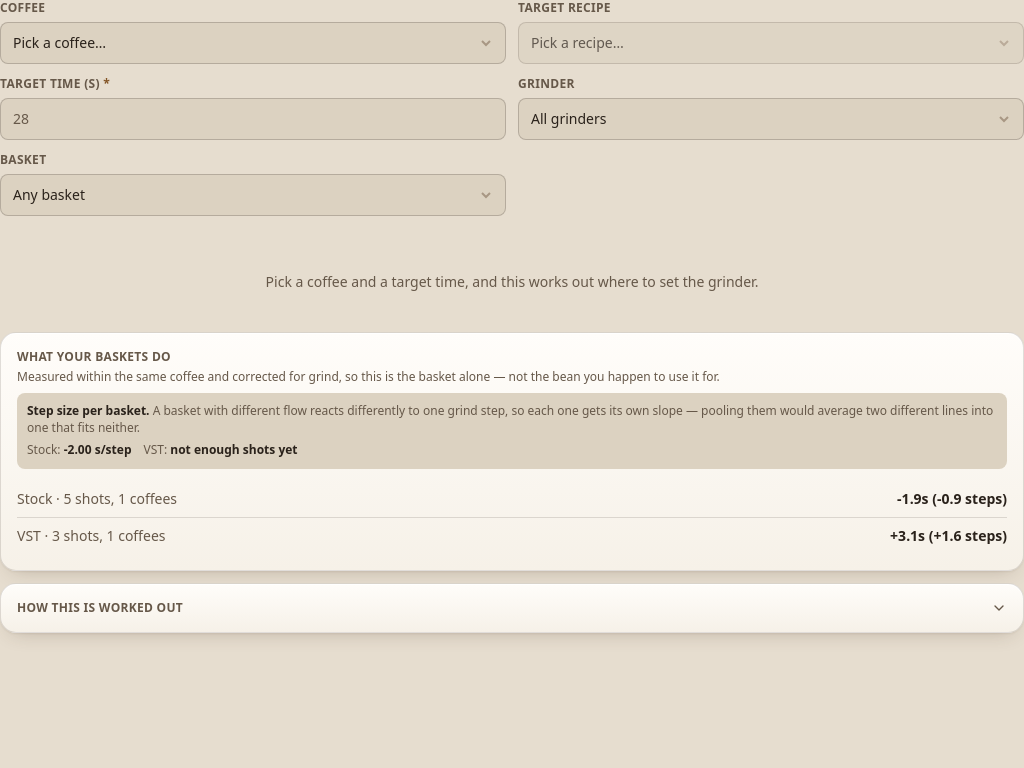
Test: a typed target time overrides the one from the recipe
Select "Bean / R" in the dropdown labelled "Coffee". click: coordinates (253, 43)
box: [0,22,506,64]
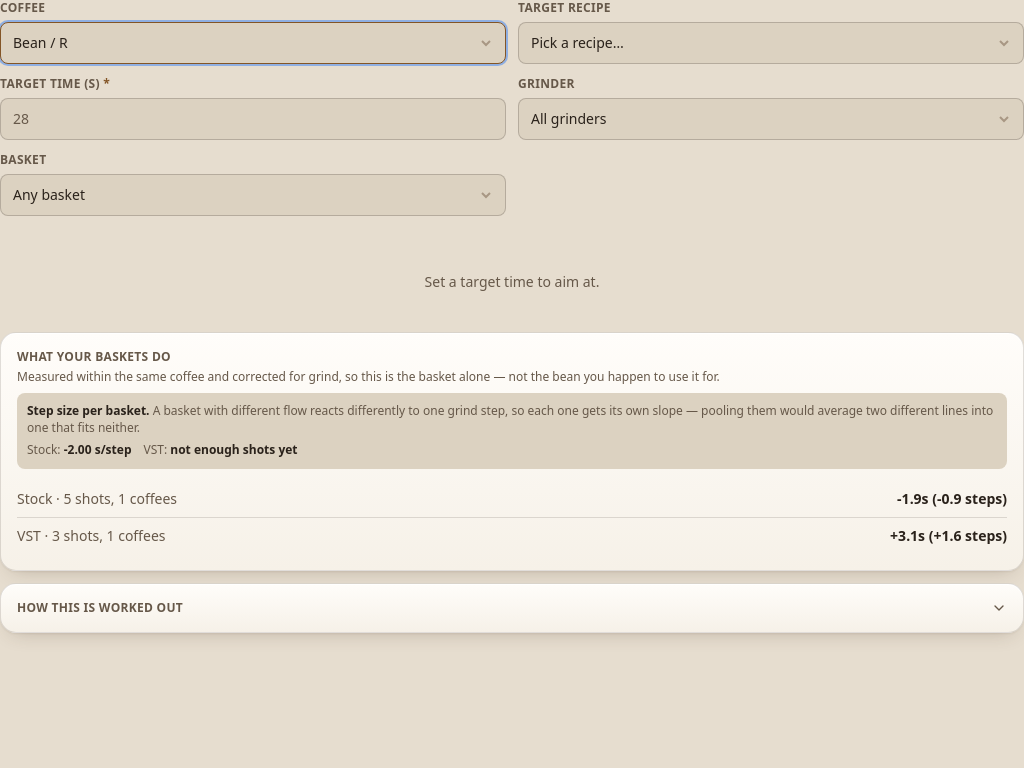
Select "My standard" in the dropdown labelled "Target recipe". click: coordinates (771, 43)
box: [518,22,1023,64]
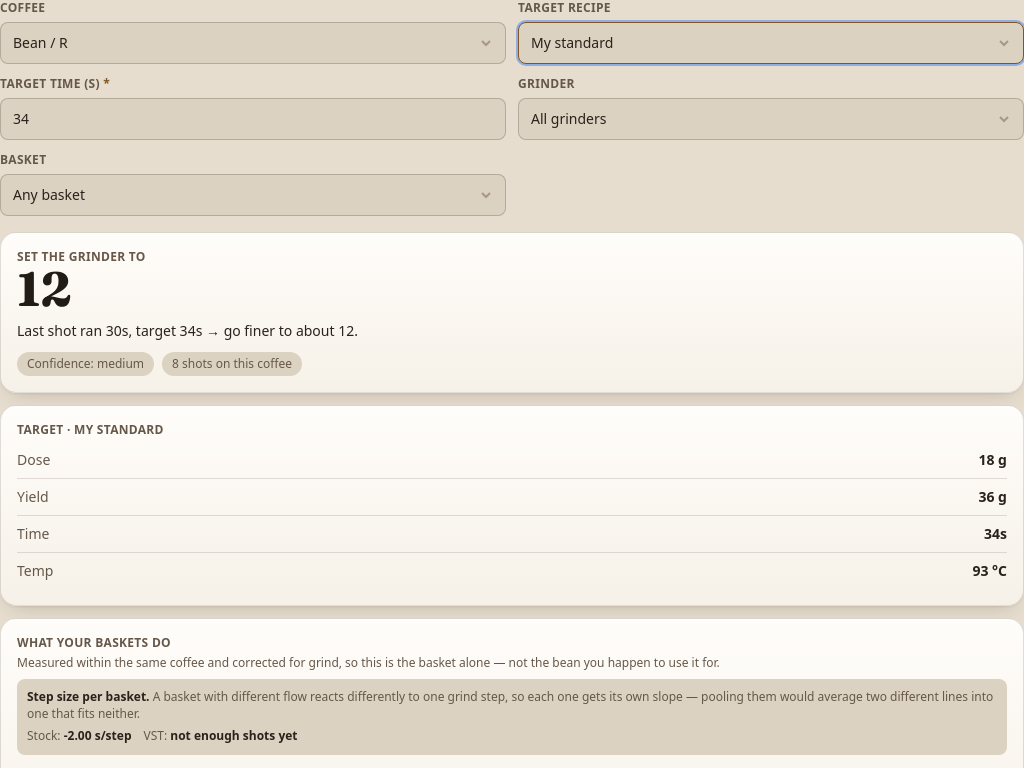
Replace the text in the number field labelled "Target time (s) *" with "26". click: coordinates (253, 119)
box: [0,98,506,140]
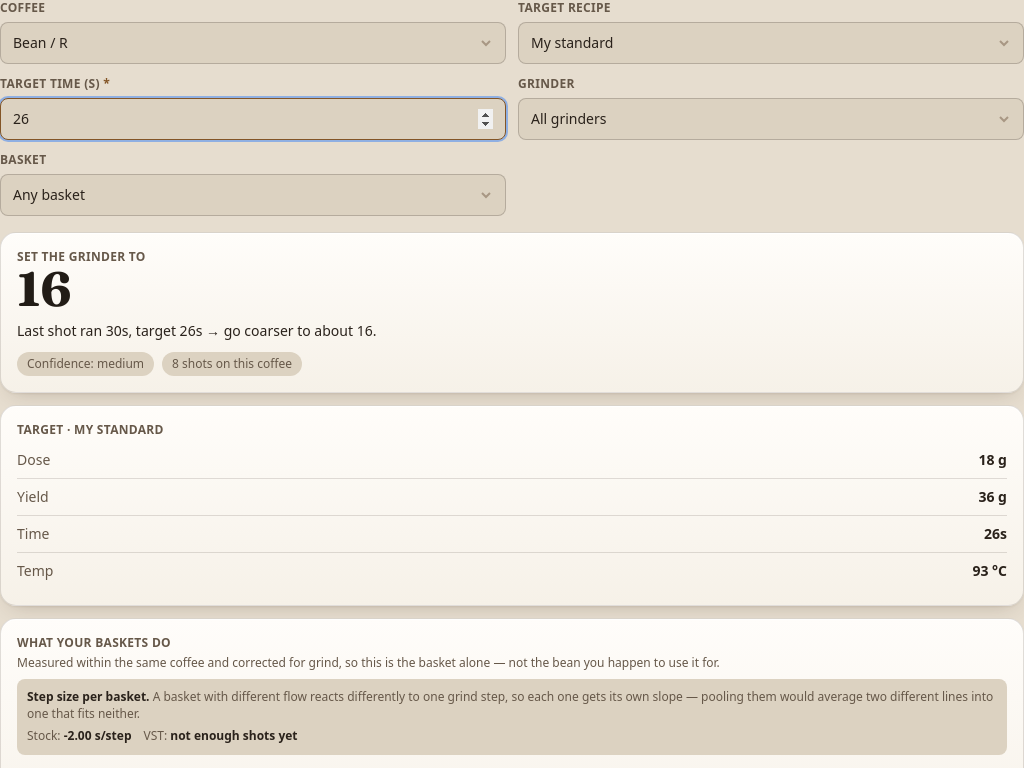
expect the text "Last shot ran 30s, target 26s → go coarser to about 16." is shown: met, box [17,321,376,340]
